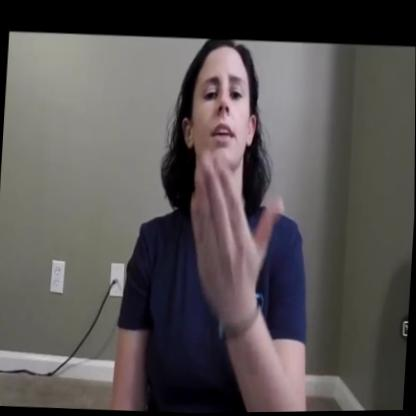ThankYou: (148, 34, 314, 341)
